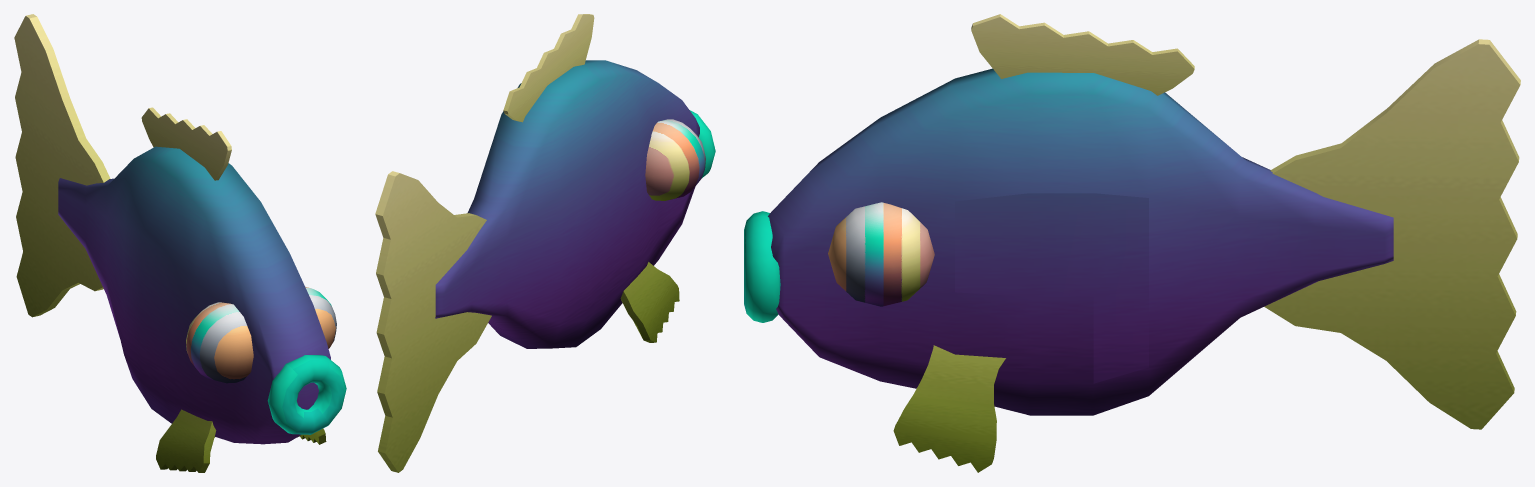
File: Fishy2.fbx
The picture shows the model from 3 angles, left to right: view 1: azimuth 30°, elevation 25°; view 2: azimuth 150°, elevation 25°; view 3: azimuth 270°, elevation 25°; orthographic projection. The views are drawn at different scales.
Parts seen in each view (by area): view 1: pCube2, pPlane2, pSphere1, pTorus1, pPlane3, pPlane1; view 2: pCube2, pPlane2, pSphere1, pPlane3, pPlane1, pTorus1; view 3: pCube2, pPlane2, pPlane3, pPlane1, pSphere1, pTorus1.
Part boxes in pixels (box(x1,y1,x2,y2)): pCube2: box(58, 146, 330, 444); pPlane2: box(14, 14, 110, 317); pSphere1: box(186, 287, 336, 383); pTorus1: box(267, 355, 346, 434); pPlane3: box(141, 107, 231, 180); pPlane1: box(156, 409, 326, 472); pCube2: box(435, 60, 699, 348); pPlane2: box(375, 171, 491, 472); pSphere1: box(645, 119, 705, 200); pPlane3: box(503, 14, 594, 122); pPlane1: box(620, 262, 679, 342); pTorus1: box(690, 110, 715, 177); pCube2: box(768, 68, 1393, 415); pPlane2: box(1264, 39, 1520, 429); pPlane3: box(971, 14, 1194, 95); pPlane1: box(893, 345, 1005, 472); pSphere1: box(828, 202, 934, 306); pTorus1: box(744, 211, 780, 322).
Bounding box in the file's own units: 3.51 × 7.16 × 12.21.
1 material, 1 textured.
